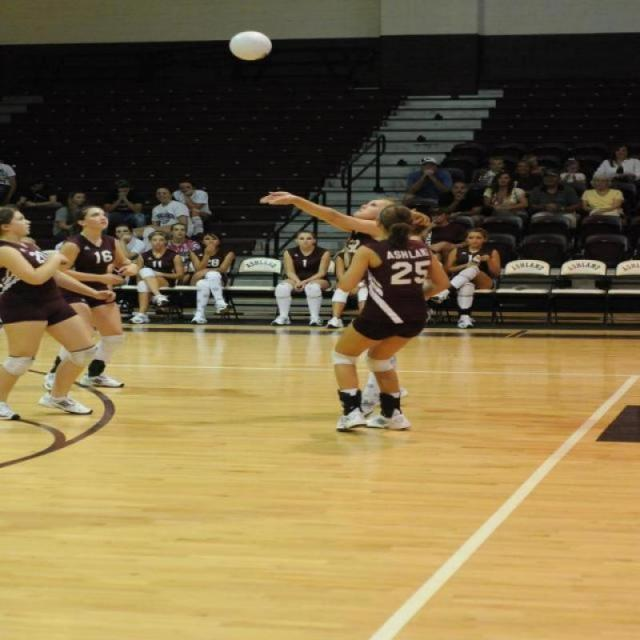volleyball: (230, 30, 274, 60)
